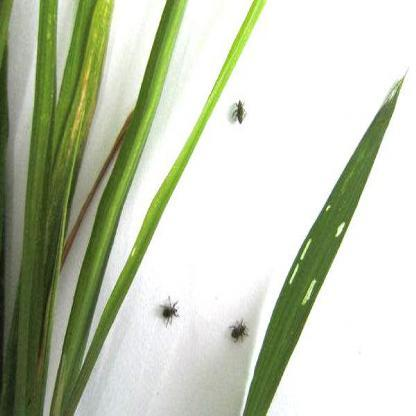rice-bug: (162, 295, 186, 326), (229, 96, 251, 125), (230, 316, 249, 342)
